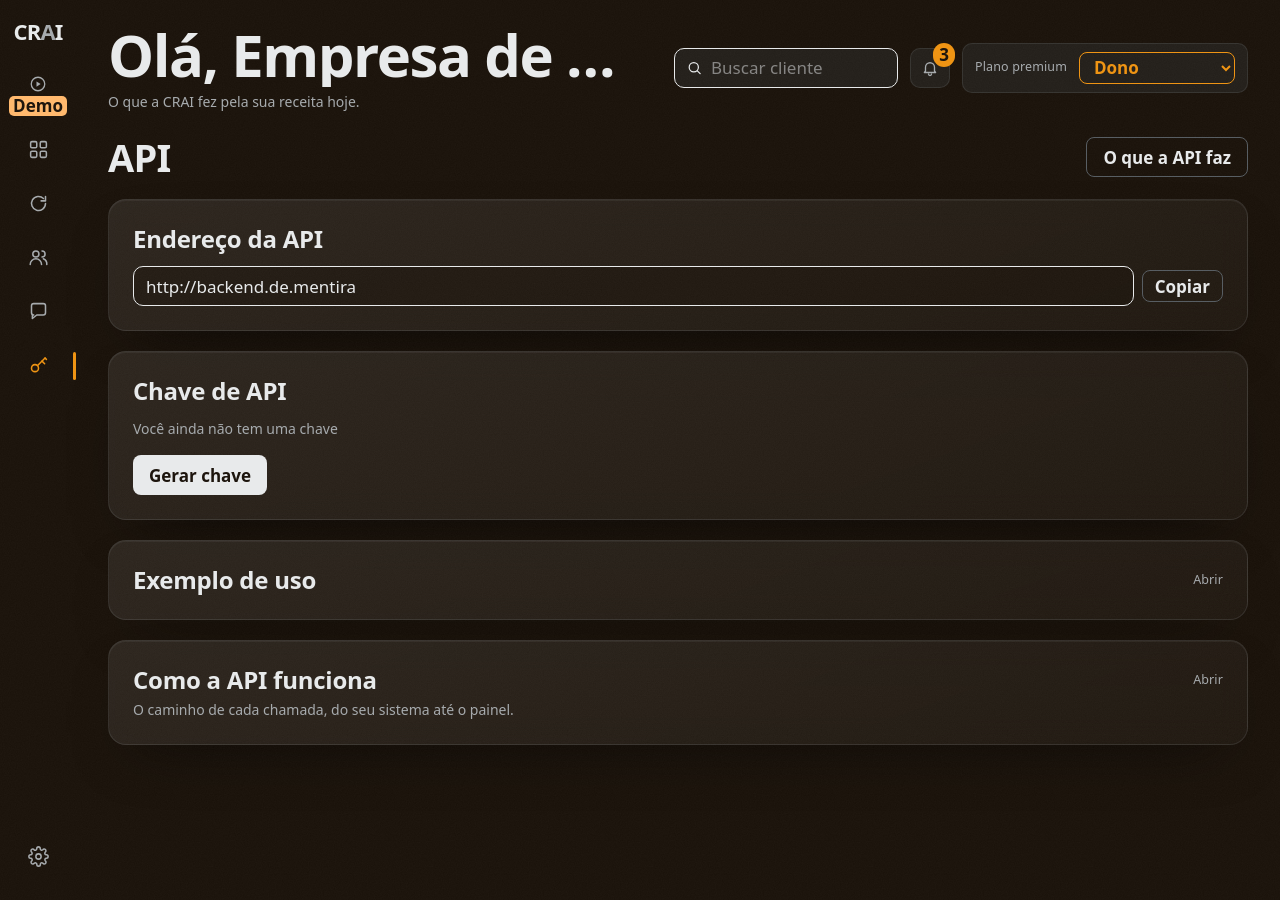
Scenario: o sino do topo › mostra o número do backend e leva à aba Mensagens, com quem espera a escolha
Expected: the text "3" is shown, [933,43,955,67]
Click the button named "esperando a sua escolha de mensagem".
click(930, 68)  # box [910,48,950,88]
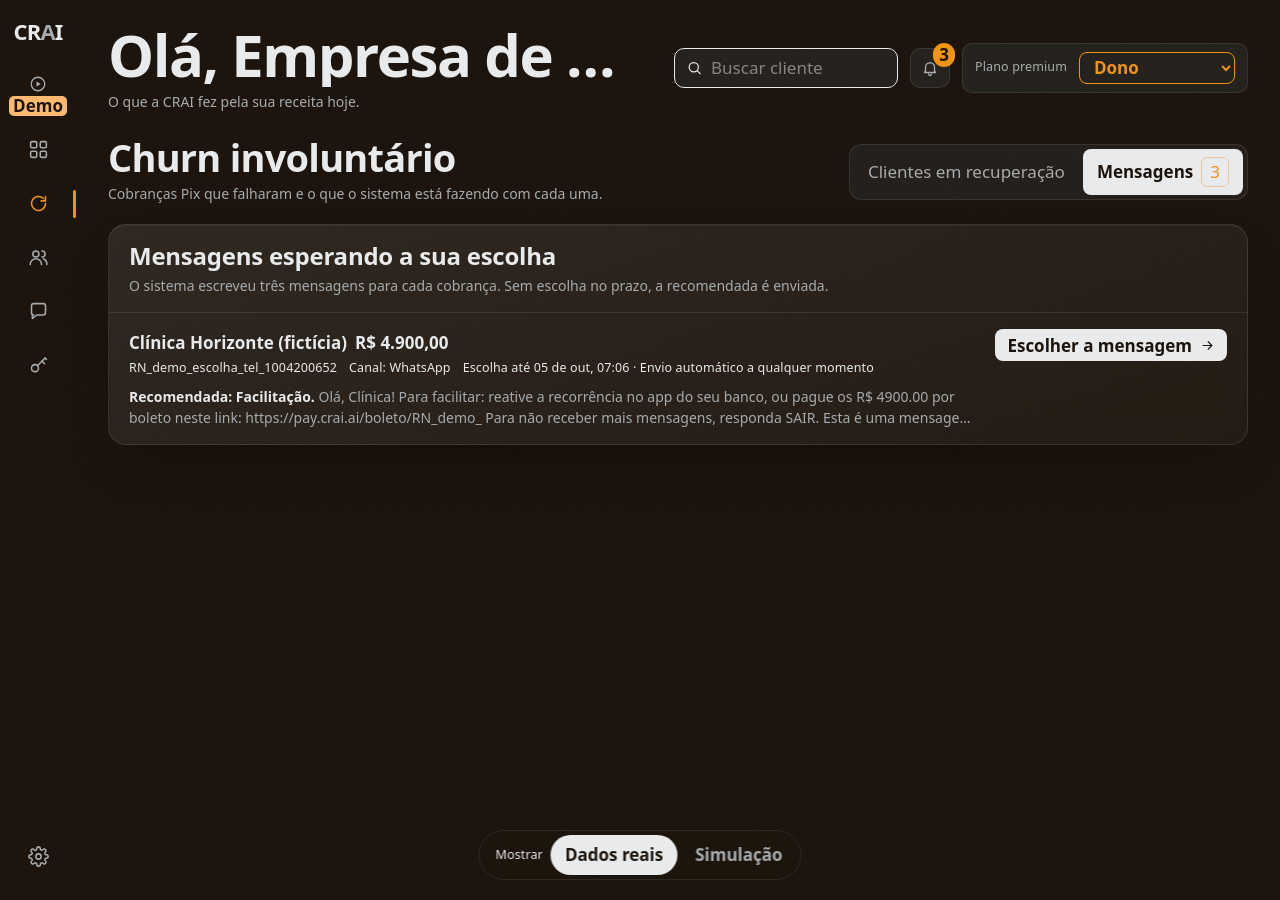
Result: the text "Clínica Horizonte (fictícia)" is shown at [129,329,347,357]
